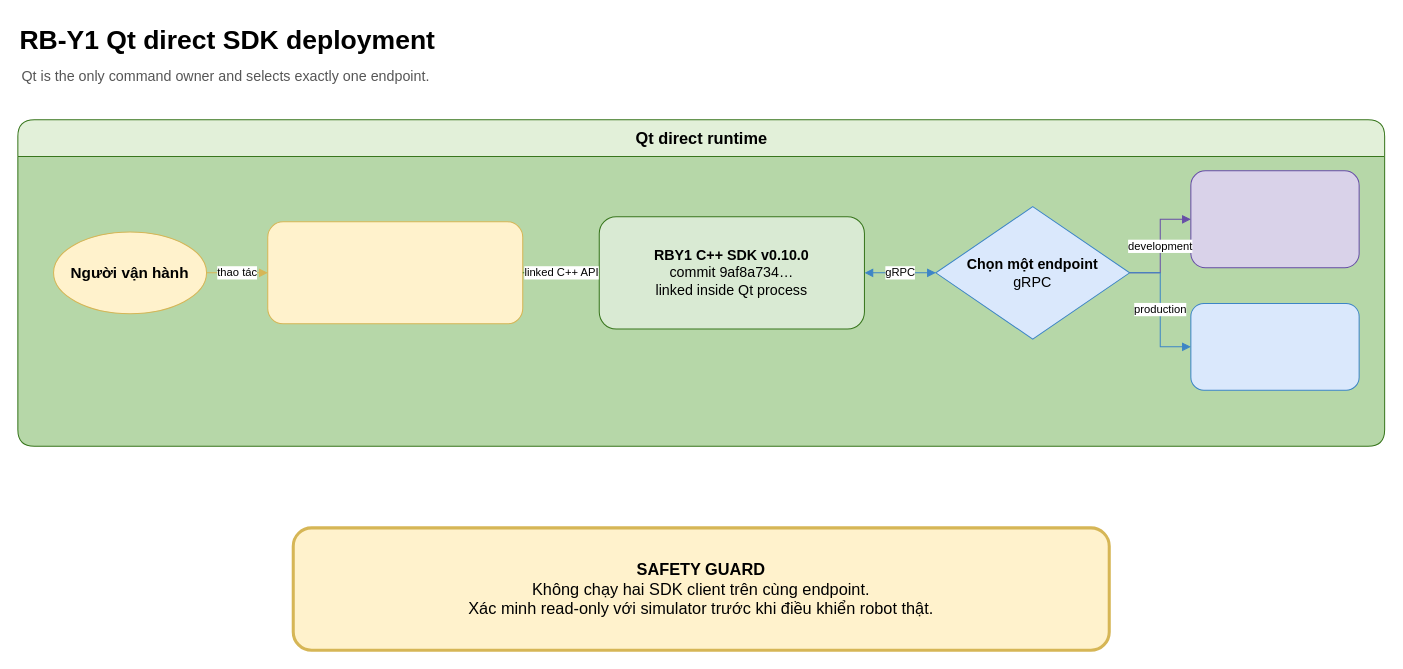
The diagram is 1403 pixels wide and 669 high, and some of its shapes have lost their labels. Each missing label, with the box of its shape:
MuJoCo simulator 0.10.6-m_v1.2 localhost:50051: (1190, 170, 1359, 268)
RB-Y1 robot thật chỉ sau simulator-first: (1190, 302, 1359, 390)
RBY1 Qt Application Controller command owner duy nhất: (267, 221, 523, 324)
